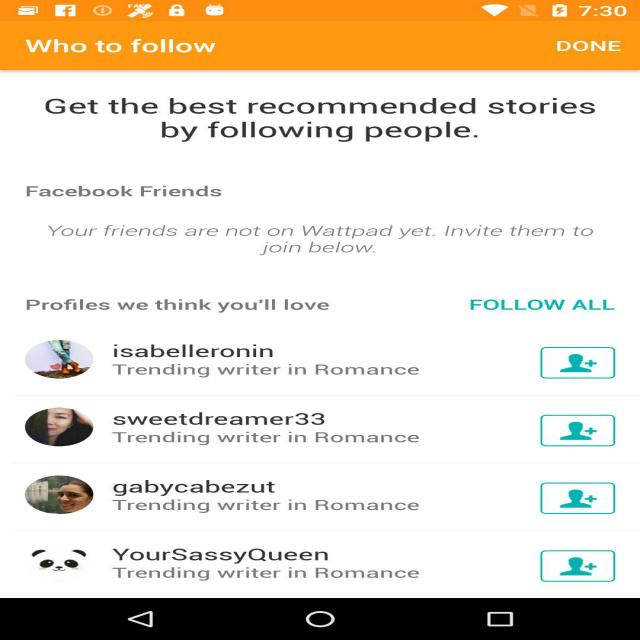button: (438, 282, 640, 339), (529, 25, 640, 66)
icon: (531, 344, 617, 588)
image: (12, 337, 93, 582)
text: (106, 341, 494, 600), (29, 95, 610, 147), (41, 219, 604, 265), (22, 289, 390, 315), (14, 177, 282, 202), (11, 36, 270, 60), (462, 294, 622, 325), (546, 34, 624, 56)
